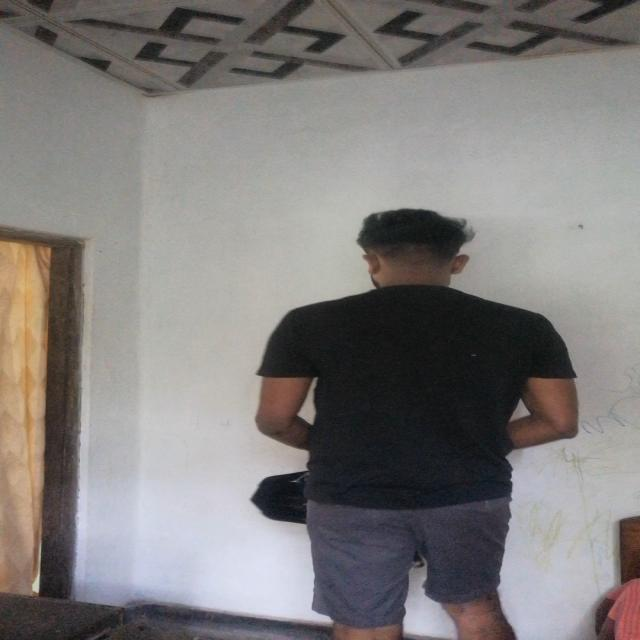Person: (249, 201, 575, 640)
